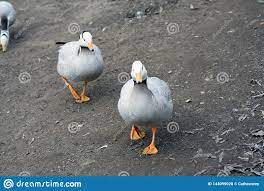Walking: (115, 59, 179, 159), (47, 31, 108, 106)
